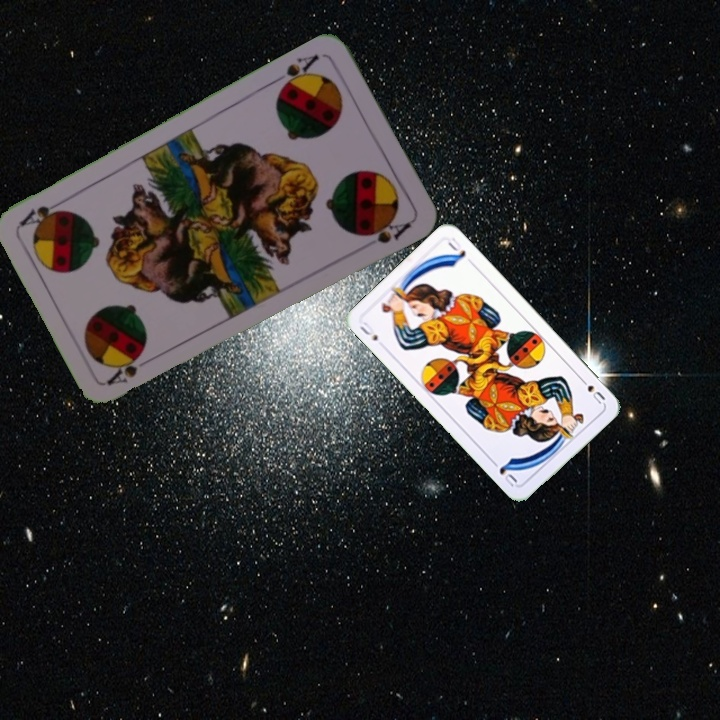SA: (270, 50, 322, 94), (103, 350, 146, 388)
SU: (575, 373, 608, 407), (355, 318, 381, 344)
